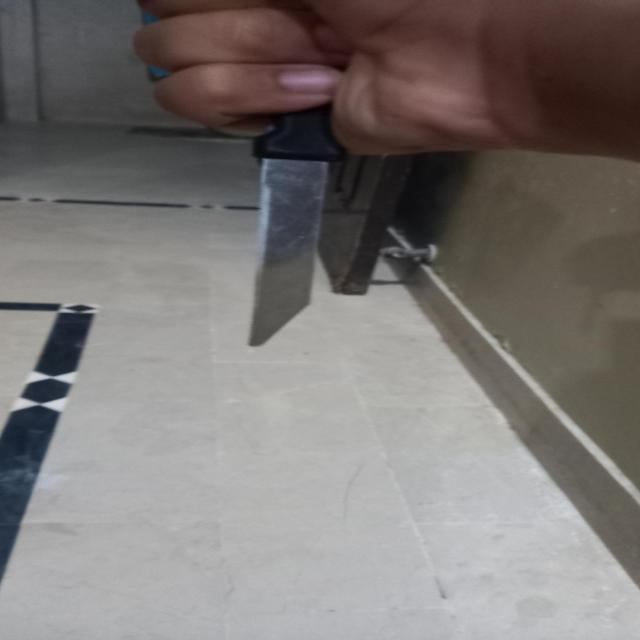Knife: (252, 106, 346, 348)
Person: (139, 0, 640, 167)
